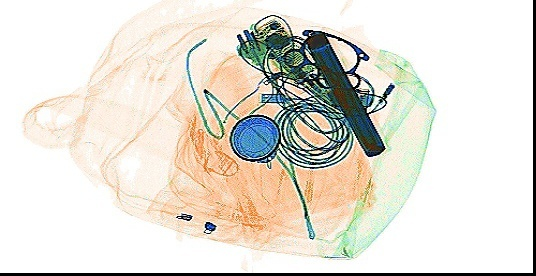powerbank: (303, 30, 385, 157)
